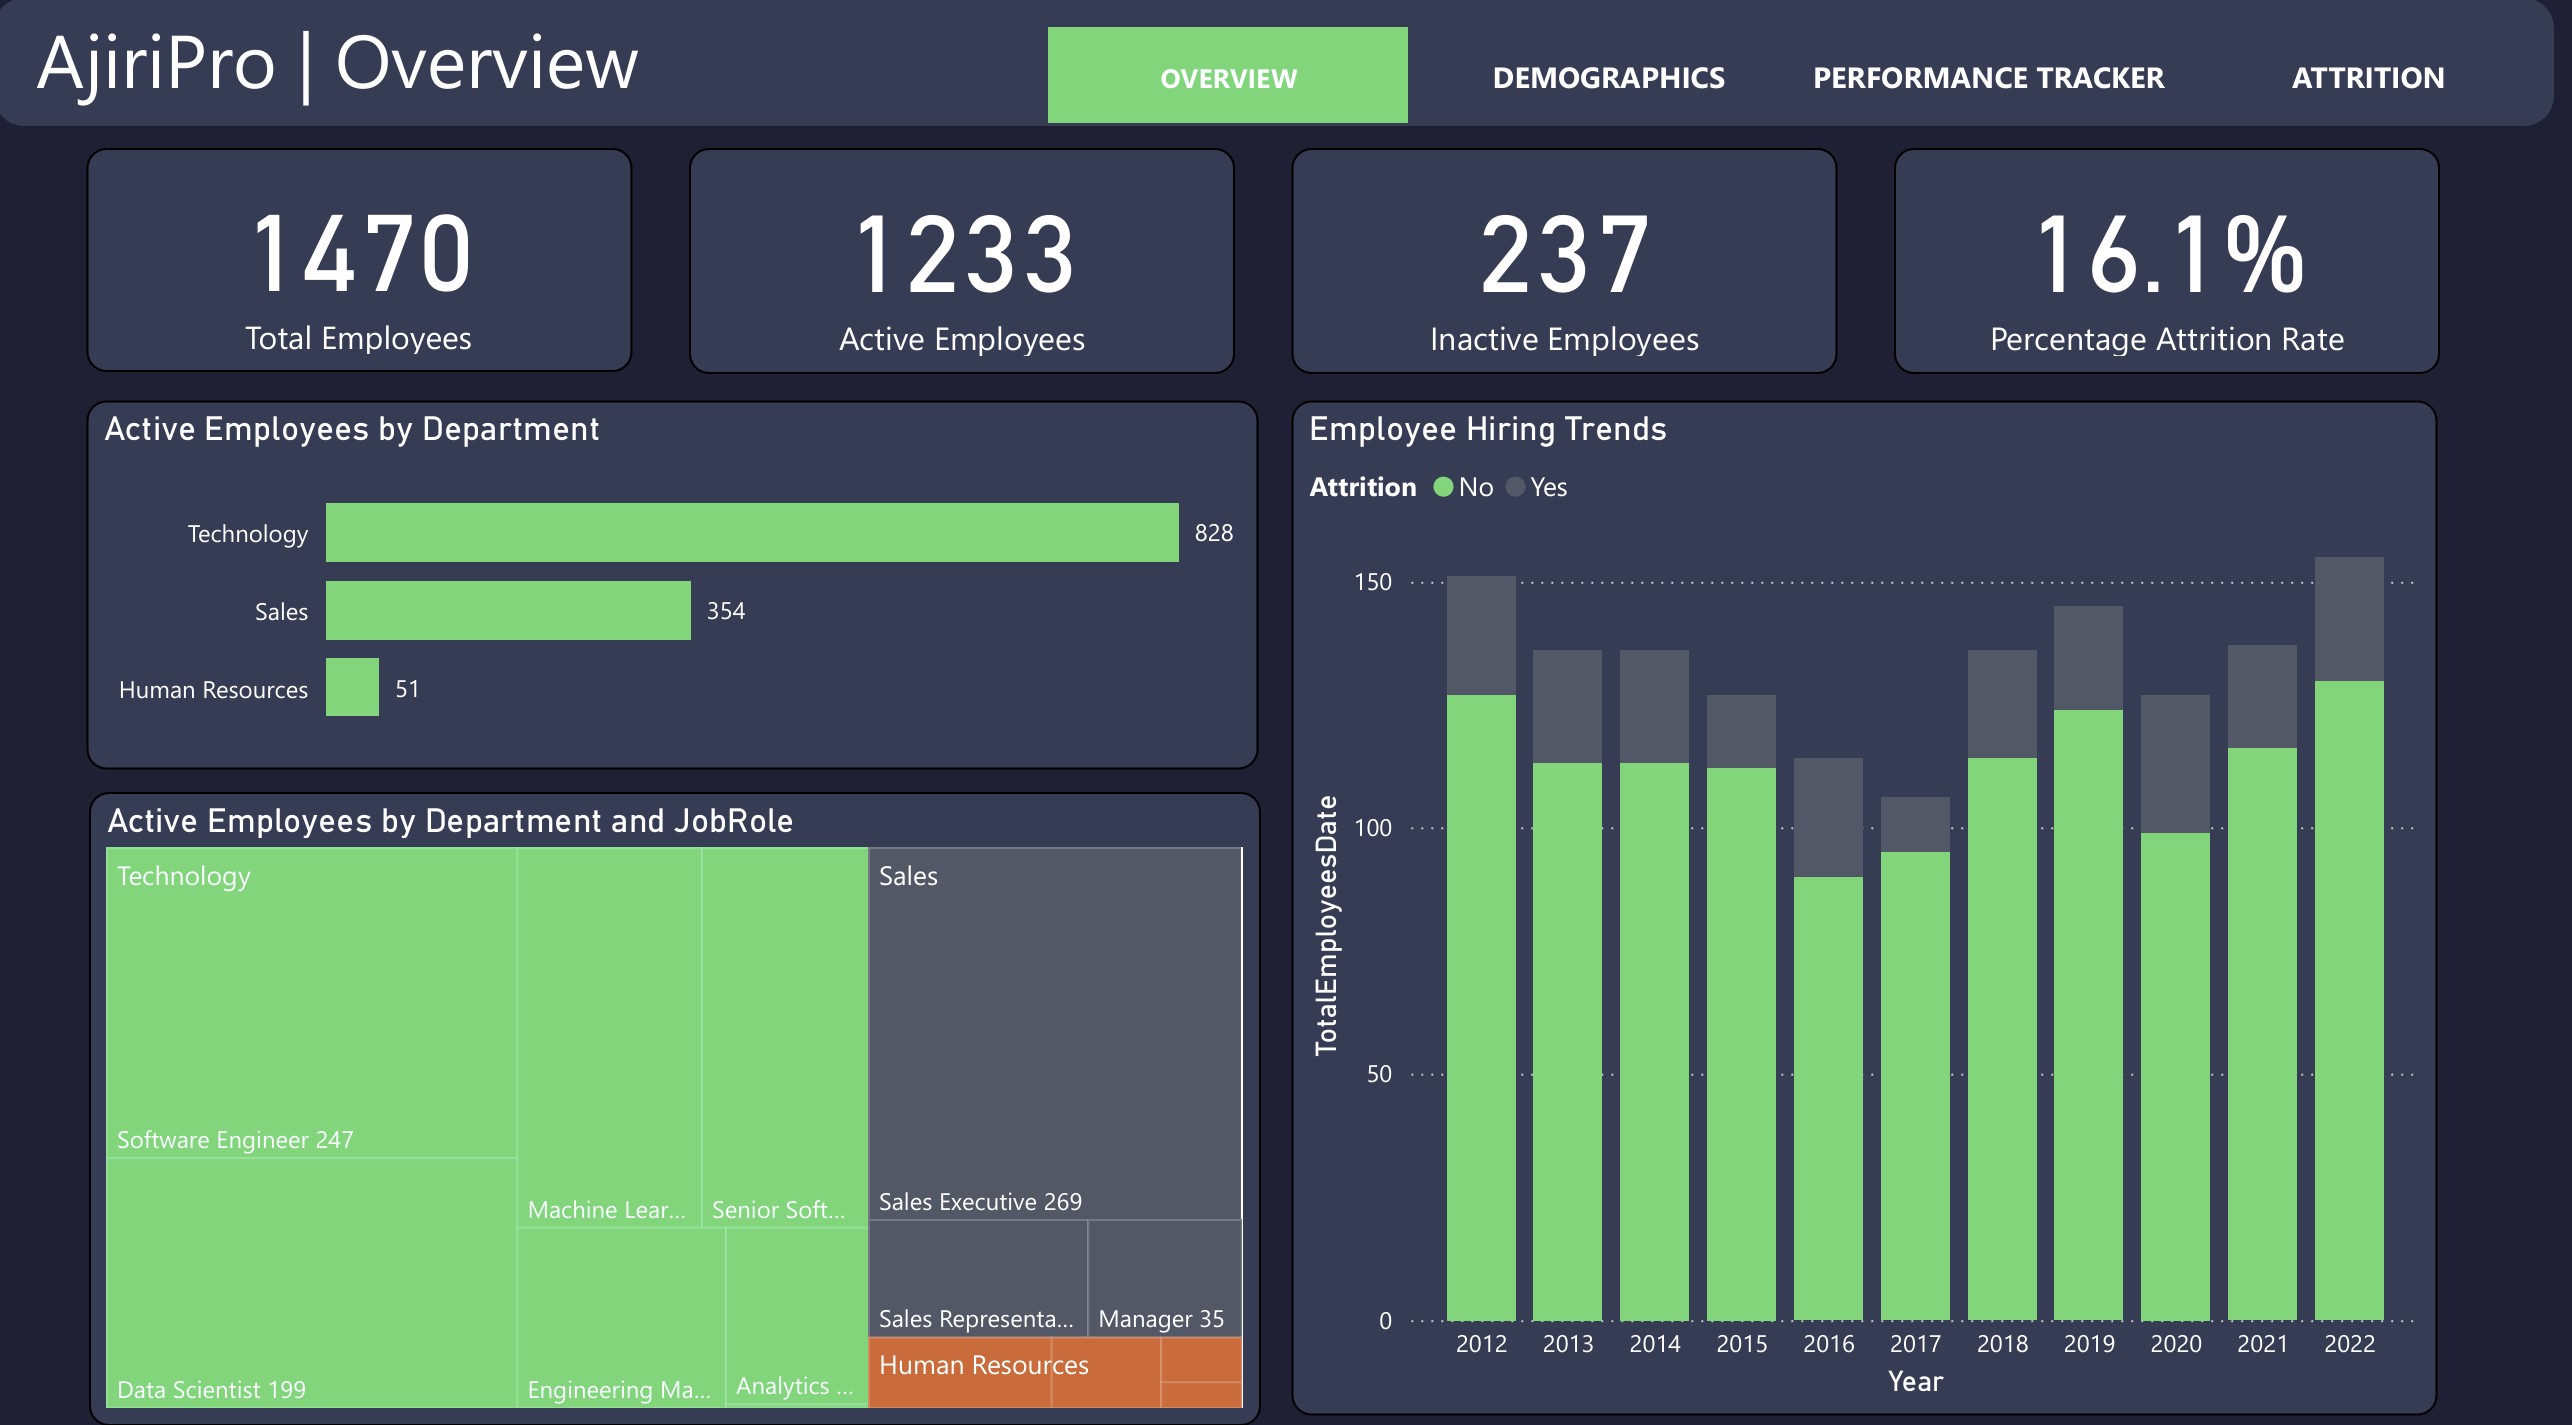

The dashboard page shown, as its layout file describes it:
{"tool":"powerbi","page":{"name":"OVERVIEW","canvas":[1280,720],"ordinal":0},"visuals":[{"type":"shape","box":[0,0,1280,64],"z":0},{"type":"textbox","box":[16,0,448,64],"z":1000},{"type":"pageNavigator","box":[527.5,15,750,48.8],"z":2000},{"type":"card","fields":{"Values":["Calculated_Measures.TotalEmployees"]},"box":[46.6,74.6,272.7,112.2],"z":3000},{"type":"card","fields":{"Values":["Calculated_Measures.ActiveEmployees"]},"box":[346.9,75,272.5,112.5],"z":4000},{"type":"card","fields":{"Values":["Calculated_Measures.InactiveEmployees"]},"box":[648.2,75,272.5,112.5],"z":5000},{"type":"card","fields":{"Values":["Calculated_Measures.Percentage Attrition Rate"]},"box":[949.4,75,272.5,112.5],"z":6000},{"type":"columnChart","title":"Employee Hiring Trends","fields":{"Category":["Date_Table.Date.Variation.Date Hierarchy.Year","Date_Table.Date.Variation.Date Hierarchy.Quarter","Date_Table.Date.Variation.Date Hierarchy.Month","Date_Table.Date.Variation.Date Hierarchy.Day"],"Series":["Employee.Attrition"],"Y":["Calculated_Measures.TotalEmployeesDate"]},"box":[648.6,201.2,573.1,507.9],"z":7000},{"type":"clusteredBarChart","fields":{"Category":["Employee.Department"],"Y":["Calculated_Measures.Active Employees"]},"box":[46.6,201.2,586.3,184.6],"z":8000},{"type":"treemap","fields":{"Group":["Employee.Department"],"Details":["Employee.JobRole"],"Values":["Calculated_Measures.Active Employees"]},"box":[47.1,396.9,586.3,317.3],"z":9000}]}

Visuals, with their boxes in screenshot pixels (x1, y1, x2, y2), scaled from the page's 1280x720 canvas onto the 2572x1425 screenshot:
shape: (0,0,2571,127)
textbox: (32,0,932,127)
pageNavigator: (1060,30,2567,126)
card - Calculated_Measures.TotalEmployees: (94,148,642,370)
card - Calculated_Measures.ActiveEmployees: (697,148,1245,371)
card - Calculated_Measures.InactiveEmployees: (1302,148,1850,371)
card - Calculated_Measures.Percentage Attrition Rate: (1908,148,2455,371)
"Employee Hiring Trends" columnChart: (1303,398,2455,1403)
clusteredBarChart - Employee.Department x Calculated_Measures.Active Employees: (94,398,1272,764)
treemap - Employee.Department x Employee.JobRole: (95,786,1273,1414)
